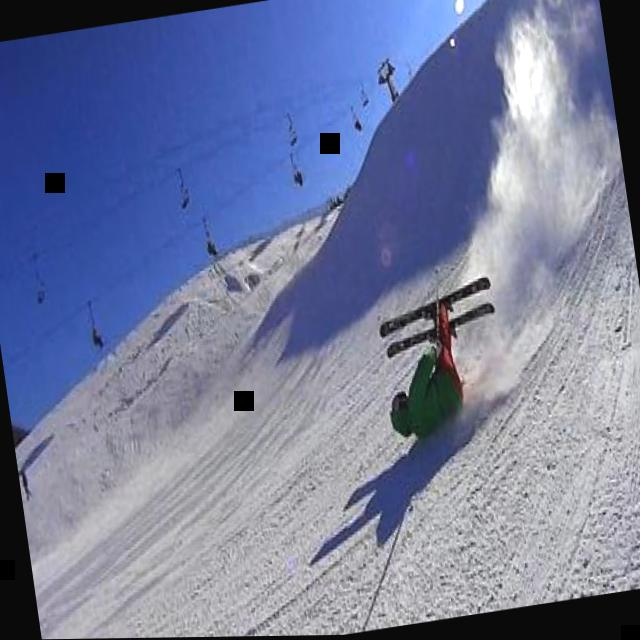Fall-Detected: (350, 253, 524, 460)
